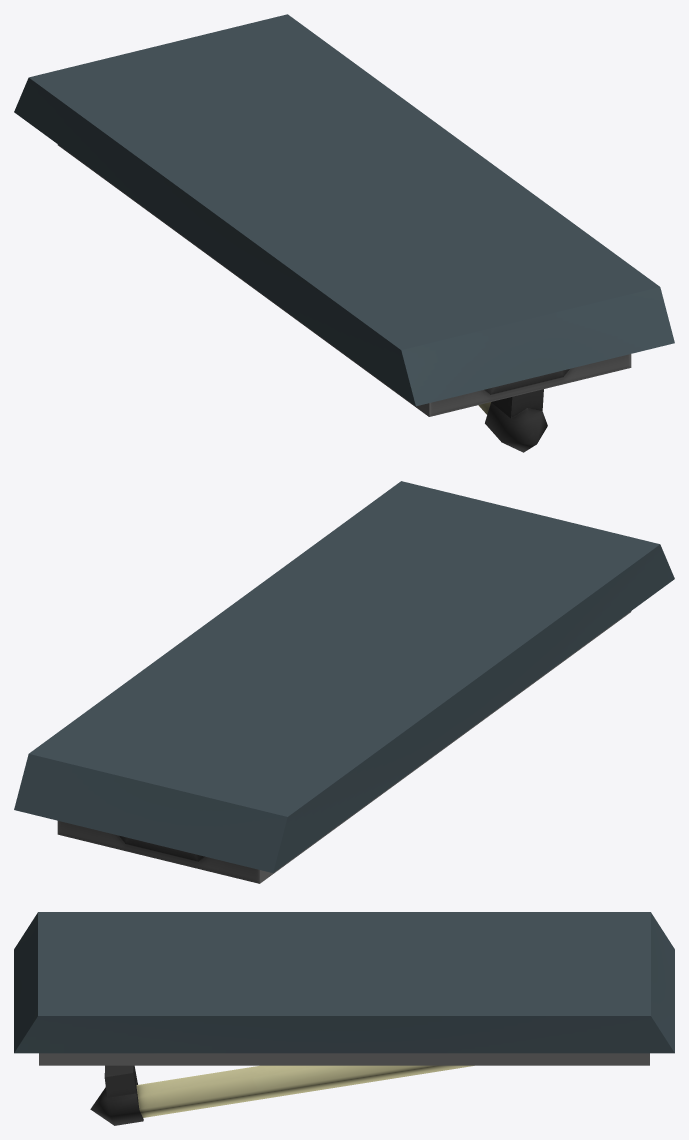
File: env_building_fluorescentlamp_broken_lod1.fbx
3 views of the same model, one above another, from view 1: azimuth 30°, elevation 25°; view 2: azimuth 150°, elevation 25°; view 3: azimuth 270°, elevation 25° (orthographic). The views are drawn at different scales.
Parts seen in each view (by area): view 1: polySurface62; view 2: polySurface62; view 3: polySurface62.
Part boxes in pixels (x1=…): polySurface62: x1=14, y1=14, x2=674, y2=452; polySurface62: x1=14, y1=481, x2=674, y2=883; polySurface62: x1=14, y1=912, x2=674, y2=1125.
Size of the model in its own units: 8.93 by 5.86 by 24.
Materials: 1 (1 with a texture image).
